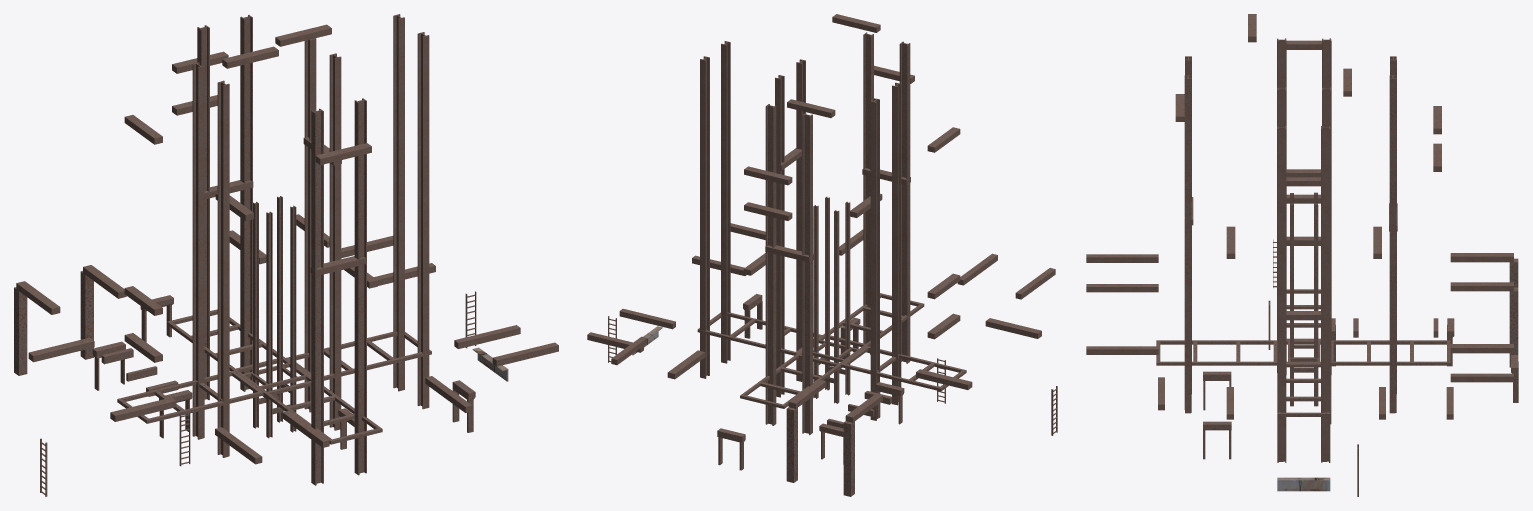
The model's file is SM_LDFest_14_Metal_00.fbx.
The picture shows the model from 3 angles, left to right: view 1: azimuth 30°, elevation 25°; view 2: azimuth 150°, elevation 25°; view 3: azimuth 270°, elevation 25°; orthographic projection. The views are drawn at different scales.
Visible parts, largest first — view 1: SM_LDFest_14_Metal_00; view 2: SM_LDFest_14_Metal_00; view 3: SM_LDFest_14_Metal_00.
Part boxes in pixels (x1,y1,x2,y2): SM_LDFest_14_Metal_00: (14, 14, 558, 496); SM_LDFest_14_Metal_00: (587, 14, 1057, 496); SM_LDFest_14_Metal_00: (1086, 14, 1518, 496).
Bounding box in the file's own units: 6021 × 5050 × 5254.
